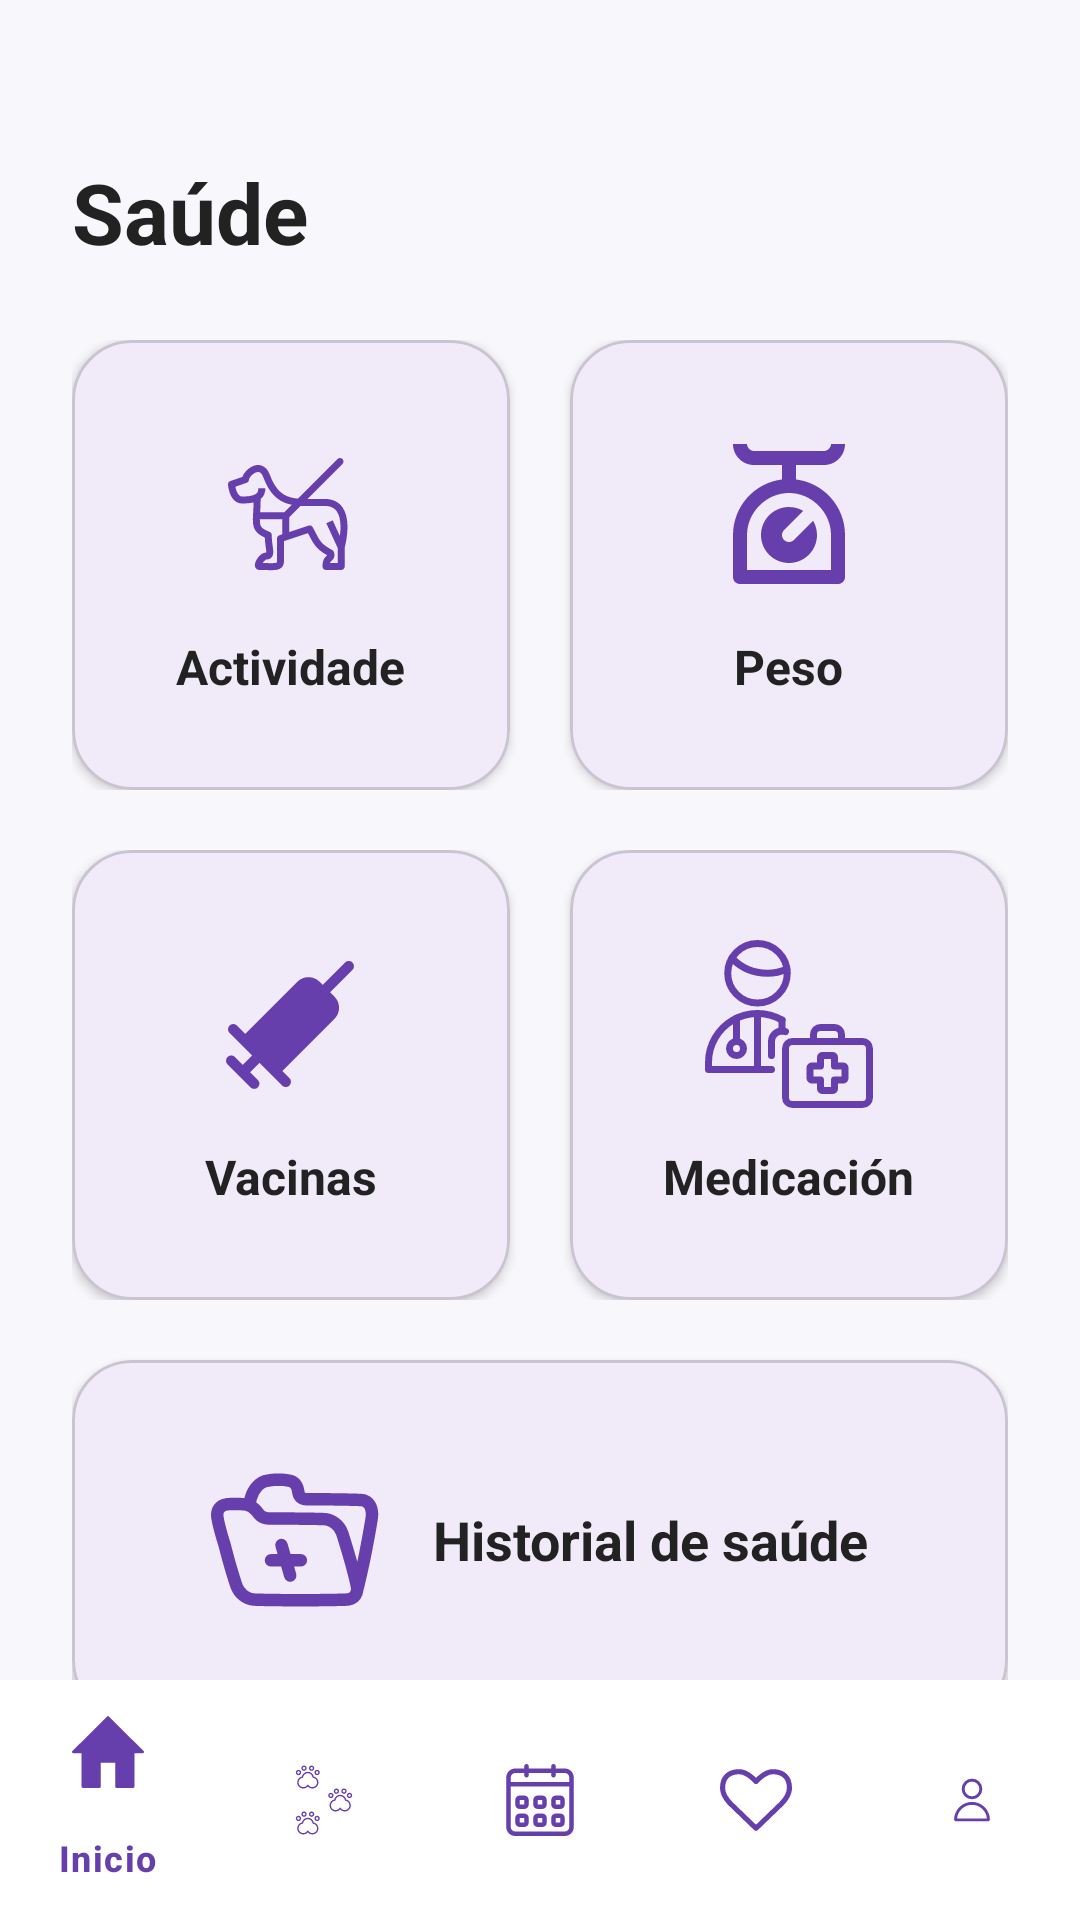

Icon bounding boxes for this 1080px x 1920px phone screenshot, format bbox=[x1, y1, x2, y2]:
historial saude: bbox=[211, 1473, 379, 1607]
